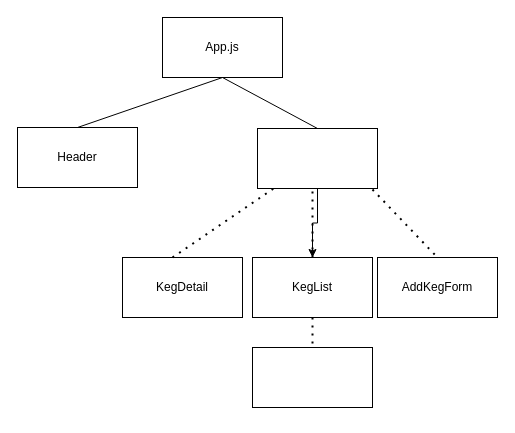
The diagram is 515 pixels wide and 433 high, and some of its shapes have lost their labels. The shapes that lost their labels are listed below. From the top down, each one's box as (x1, y1, x2, y2) in pixels, then its label:
(256, 128, 378, 188): KegControl
(252, 346, 372, 408): Keg
